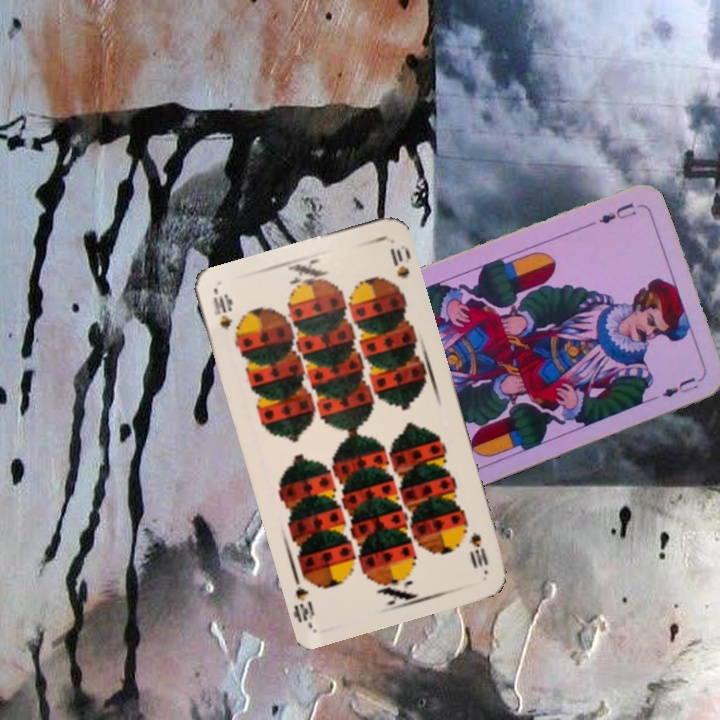EU: (595, 199, 639, 227)
S10: (209, 288, 235, 333), (465, 528, 491, 571)
